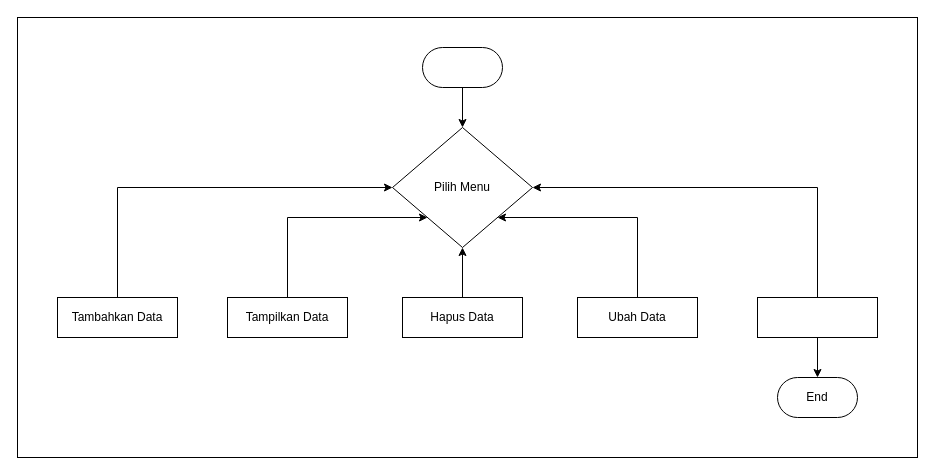
The diagram is 935 pixels wide and 475 high, and some of its shapes have lost their labels. The shapes that lost their labels are listed below. From the top down, each one's box as (x1, y1, x2, y2) in pixels, then its label:
(422, 46, 502, 88): Start
(756, 296, 878, 338): Keluar
